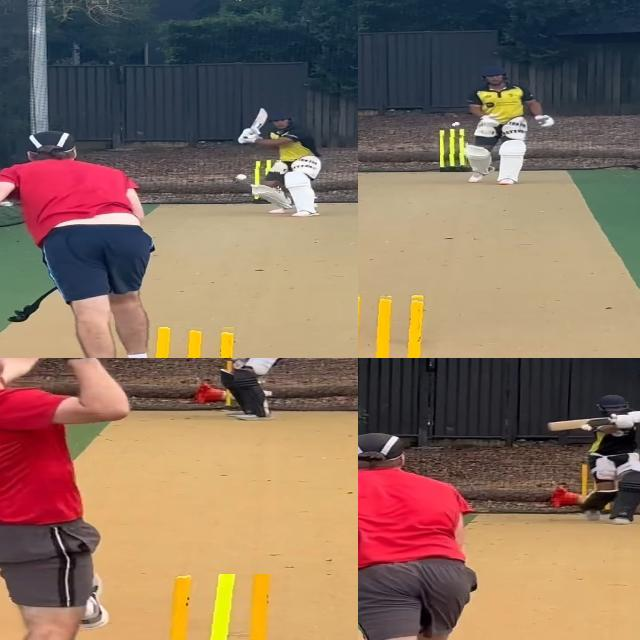Cricket ball: (232, 174, 251, 183), (580, 424, 594, 431), (450, 122, 462, 128)
Stumps: (162, 574, 291, 640), (358, 293, 440, 358), (145, 321, 257, 358), (252, 160, 281, 203), (440, 129, 469, 172)
